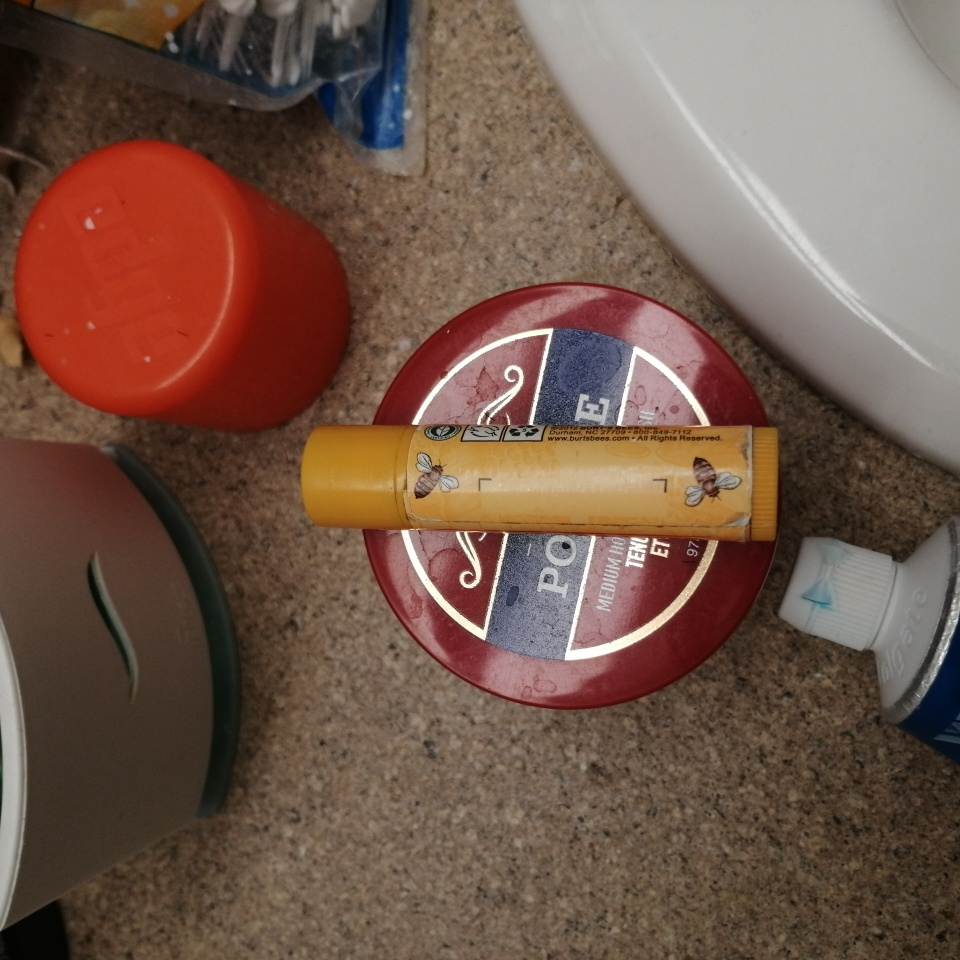chapstick: (300, 421, 785, 545)
